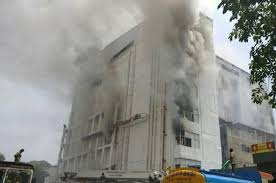smoke: (1, 1, 234, 146)
